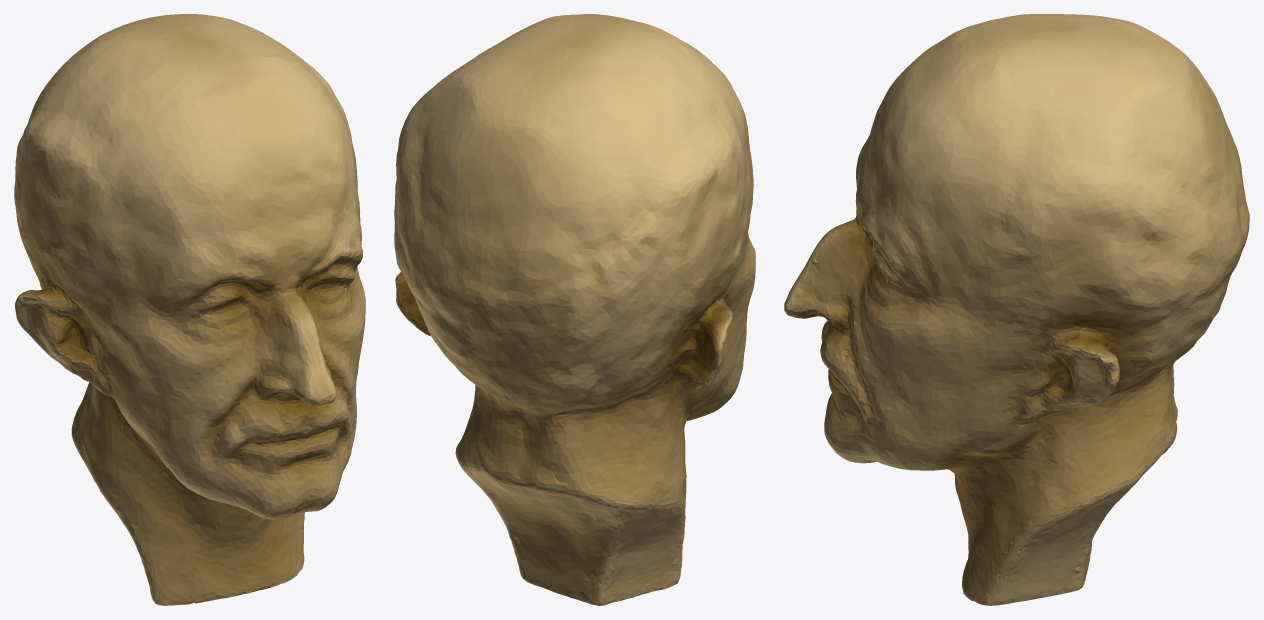
Rendered from maxplanck20KC.obj.
3 renders of one model, left to right at view 1: azimuth 30°, elevation 25°; view 2: azimuth 150°, elevation 25°; view 3: azimuth 270°, elevation 25°, orthographic. The views are drawn at different scales.
Size of the model in its own units: 303 by 497 by 384.
